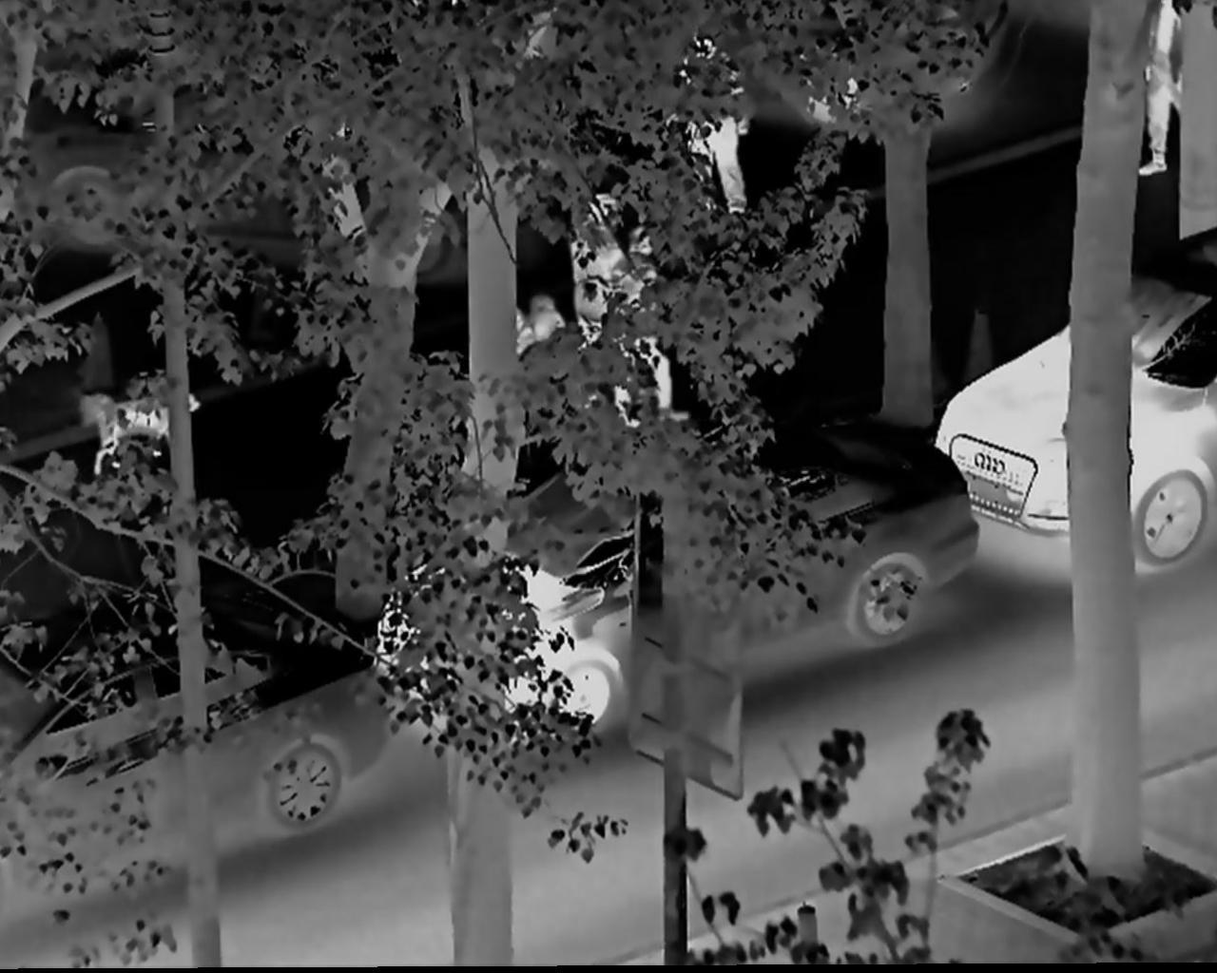person: (678, 38, 769, 220), (615, 220, 684, 430), (1133, 2, 1207, 162)
